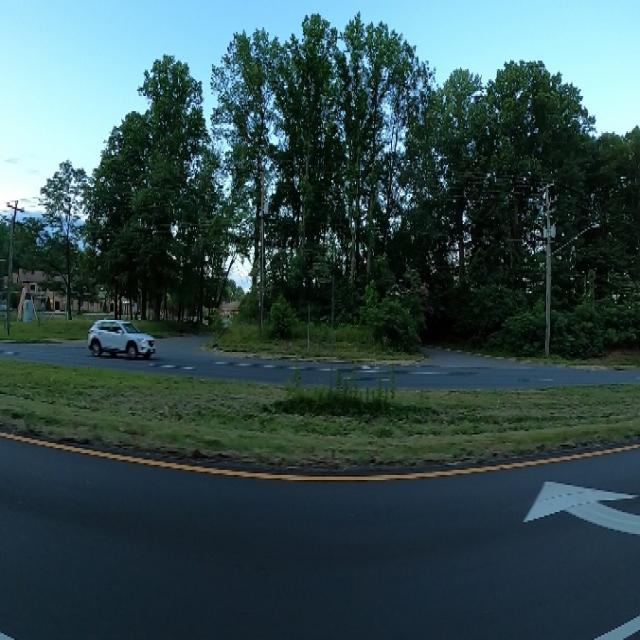cars: (86, 312, 156, 360)
